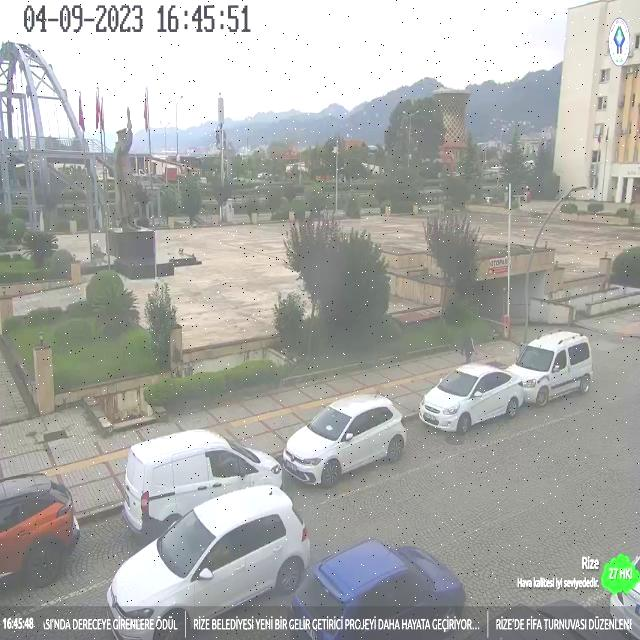Car: (106, 498, 318, 622), (289, 547, 472, 618), (282, 400, 420, 486), (1, 466, 86, 602), (513, 322, 595, 406), (423, 364, 524, 432)
Van: (103, 426, 292, 528)
